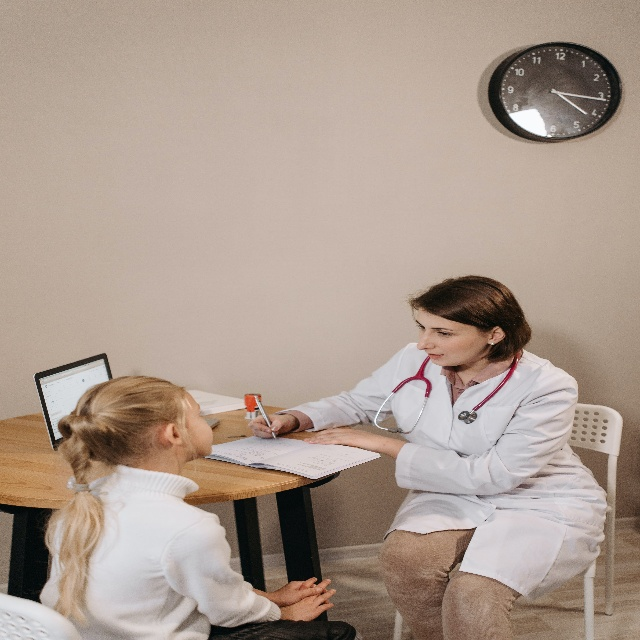Sin_guantes: (279, 576, 336, 624), (304, 424, 362, 450), (271, 580, 326, 607), (248, 412, 291, 440)
